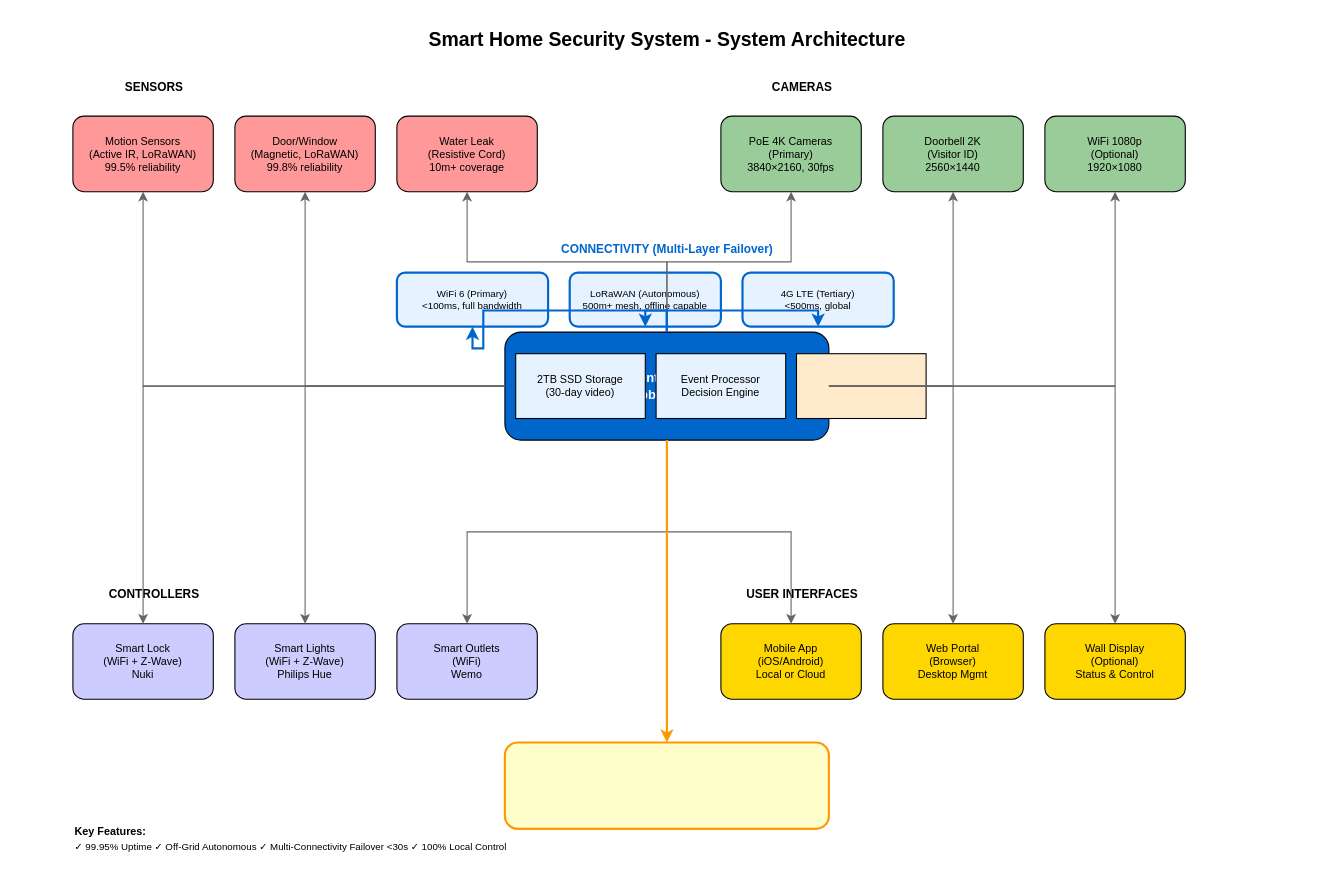
This 1333x885 diagram has some shape labels left out. The centre of each missing label's shape, as x and y in pixels:
"4+ Hour UPS Battery Backup" belongs at pixel 860 385.
"Cloud Backend (Optional - AWS/Azure) Event History, Analytics" belongs at pixel 666 785.
